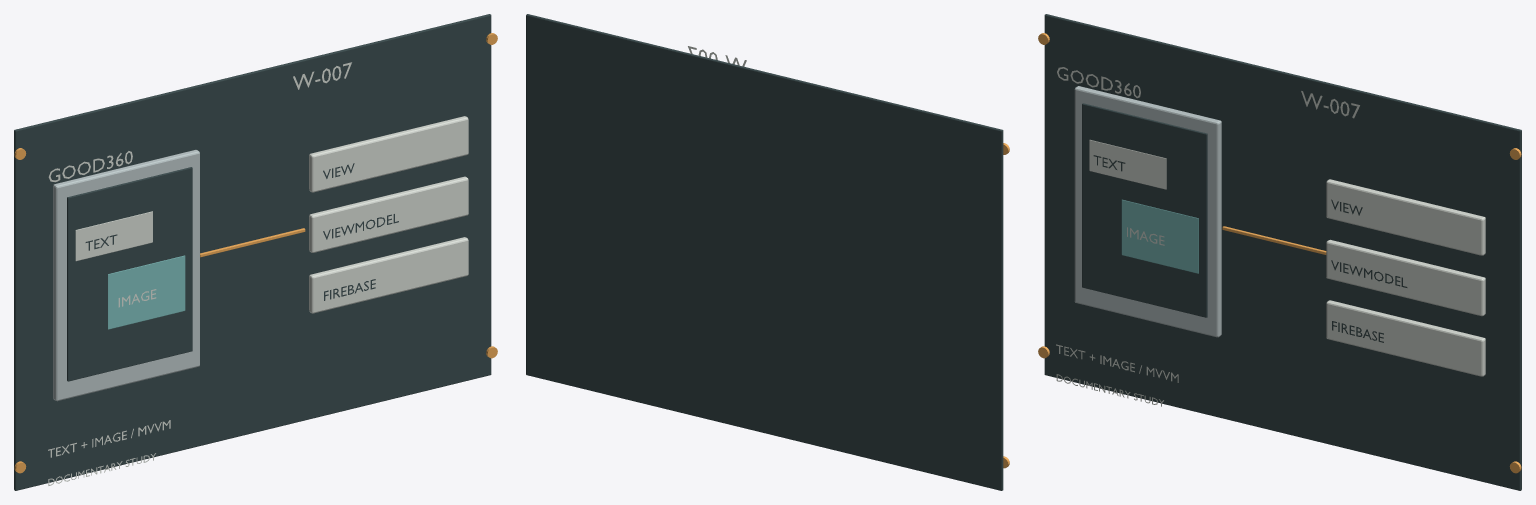
Rendered from good360.glb.
3 views of the same model, side by side, from view 1: azimuth 30°, elevation 25°; view 2: azimuth 150°, elevation 25°; view 3: azimuth 330°, elevation 25° (orthographic).
Parts seen in each view (by area): view 1: optical-core__Project_Graphite.018, optical-core__Project_Ceramic.014, optical-core__Project_Silver.010, optical-core__Project_Trace.008, optical-lenses__Project_Ceramic.018, optical-lenses__Project_Amber.018; view 2: optical-core__Project_Graphite.018; view 3: optical-core__Project_Graphite.018, optical-core__Project_Ceramic.014, optical-core__Project_Silver.010, optical-core__Project_Trace.008, optical-lenses__Project_Ceramic.018, optical-lenses__Project_Amber.018.
Boxes of the visible parts, box(x1,y1,x2,y2) form: optical-core__Project_Graphite.018: box(14, 14, 491, 490); optical-core__Project_Ceramic.014: box(75, 116, 468, 313); optical-core__Project_Silver.010: box(53, 149, 199, 401); optical-core__Project_Trace.008: box(108, 255, 185, 329); optical-lenses__Project_Ceramic.018: box(48, 62, 351, 485); optical-lenses__Project_Amber.018: box(14, 33, 497, 473); optical-core__Project_Graphite.018: box(526, 14, 1003, 490); optical-core__Project_Graphite.018: box(1044, 14, 1521, 490); optical-core__Project_Ceramic.014: box(1089, 139, 1485, 376); optical-core__Project_Silver.010: box(1074, 86, 1221, 337); optical-core__Project_Trace.008: box(1121, 199, 1198, 273); optical-lenses__Project_Ceramic.018: box(1056, 67, 1359, 406); optical-lenses__Project_Amber.018: box(1038, 33, 1521, 473).
Bounding box in the file's own units: 4.17 × 2.98 × 0.1795.
